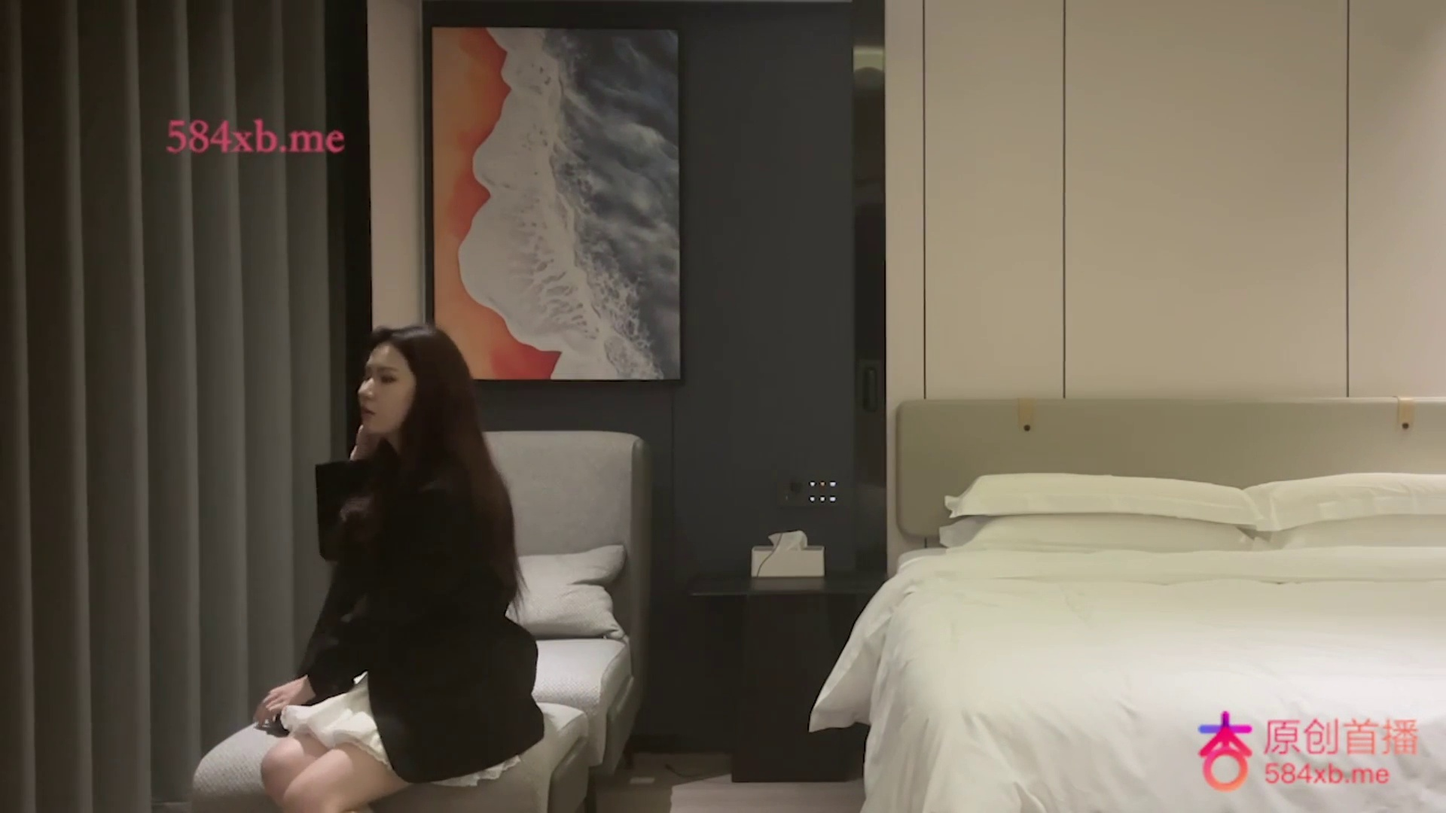sit: (244, 323, 545, 810)
